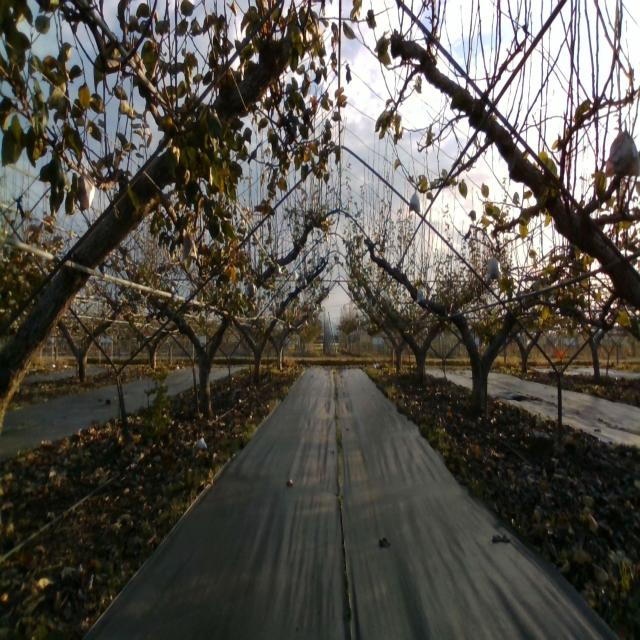pearbags: (605, 120, 640, 177), (78, 159, 96, 211), (182, 228, 197, 264), (486, 256, 503, 282), (409, 188, 421, 213), (416, 284, 427, 303)
